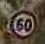limite 60: (8, 9, 37, 38)
